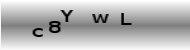8: (47, 19, 62, 34)
L: (119, 12, 133, 26)
Y: (60, 7, 73, 22)
c: (32, 27, 45, 37)
w: (91, 12, 109, 23)
